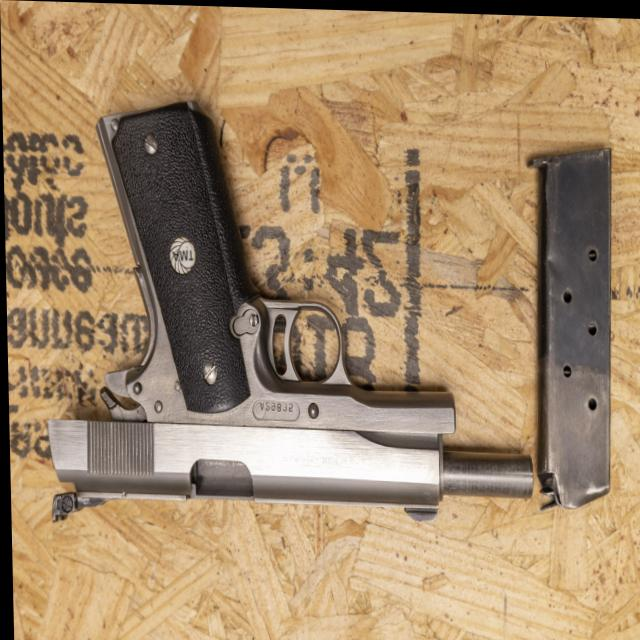handgun: (42, 99, 531, 542)
